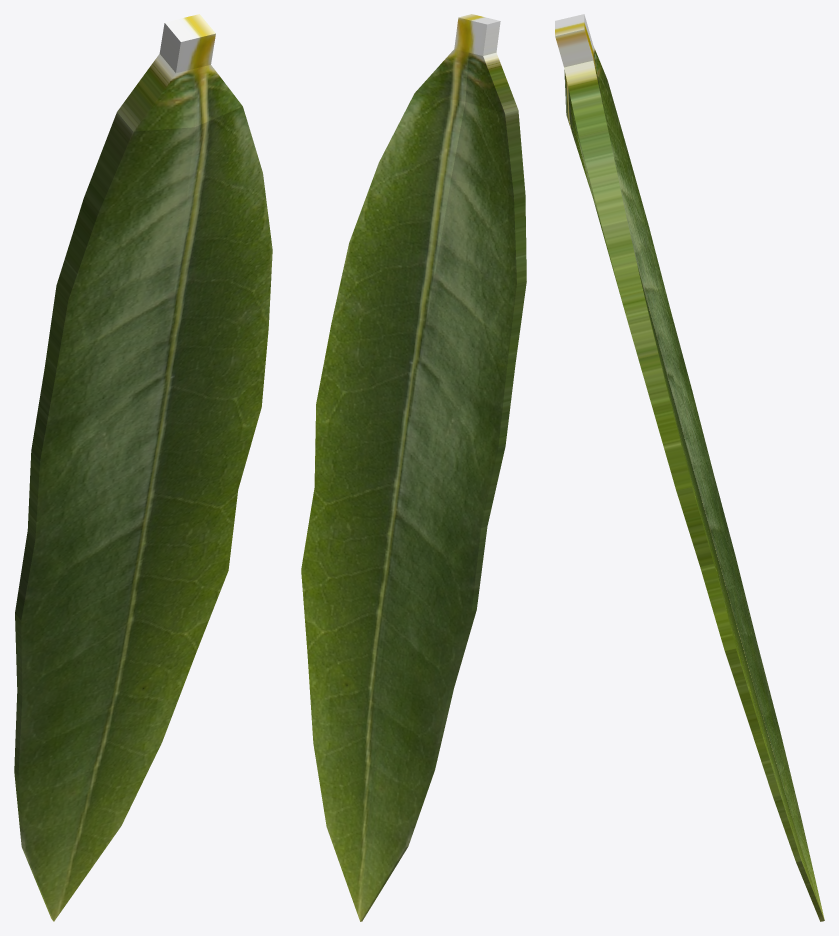
File: Leaves.gltf
The picture shows the model from 3 angles, left to right: view 1: azimuth 30°, elevation 25°; view 2: azimuth 150°, elevation 25°; view 3: azimuth 270°, elevation 25°; orthographic projection. The views are drawn at different scales.
Parts seen in each view (by area): view 1: Leaf.003-col; view 2: Leaf.003-col; view 3: Leaf.003-col.
Part boxes in pixels (left/top/right/bottom): Leaf.003-col: left=14, top=14, right=272, bottom=921; Leaf.003-col: left=301, top=14, right=526, bottom=921; Leaf.003-col: left=555, top=14, right=824, bottom=921.
Bounding box in the file's own units: 4.01 × 17.3 × 4.7.
Materials: 1 (1 with a texture image).
